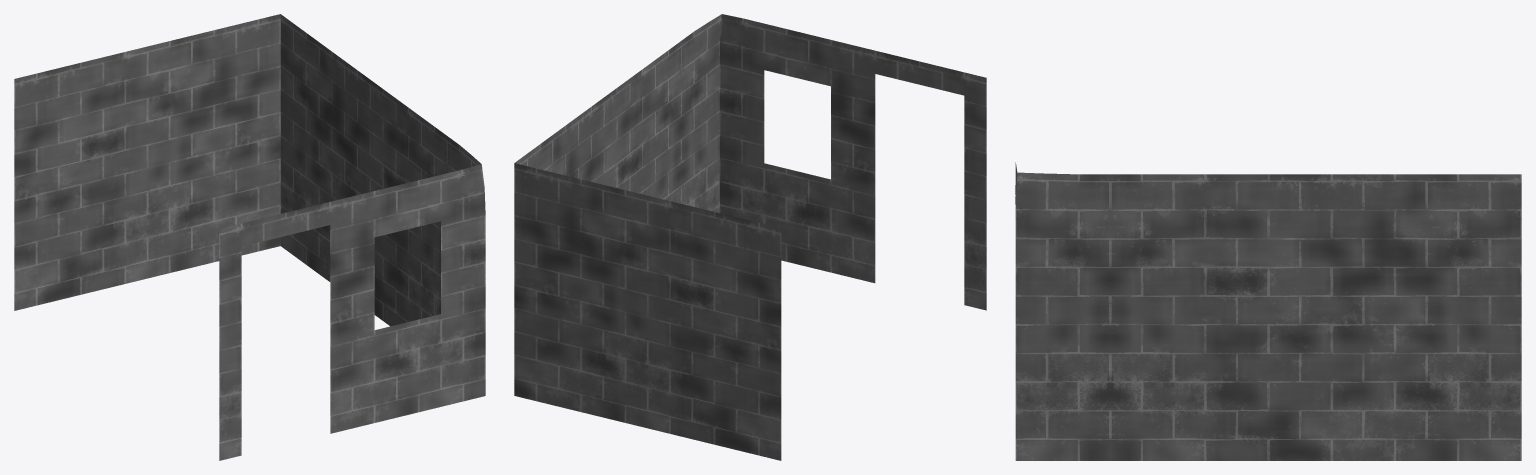
File: decal_dave.fbx
3 renders of one model, left to right at view 1: azimuth 30°, elevation 25°; view 2: azimuth 150°, elevation 25°; view 3: azimuth 270°, elevation 25°, orthographic. The views are drawn at different scales.
Visible parts, largest first — view 1: Object150; view 2: Object150; view 3: Object150.
Boxes of the visible parts, x1,y1,x2,y2 form: Object150: [14, 14, 485, 460]; Object150: [514, 14, 986, 460]; Object150: [1015, 162, 1521, 460].
Bounding box in the file's own units: 94.49 × 78.74 × 126.
